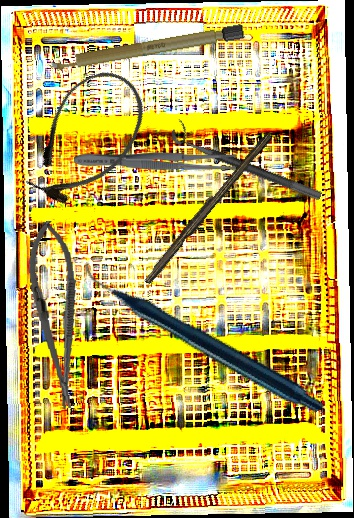Cannula: (10, 55, 163, 221)
Dressing Forceps: (73, 149, 237, 173)
Fixation Ring: (168, 118, 328, 202)
Handpiece: (83, 197, 325, 475)
Needle Holder: (22, 219, 90, 411)
Scalpel Handle: (141, 128, 273, 288), (46, 22, 245, 74)
